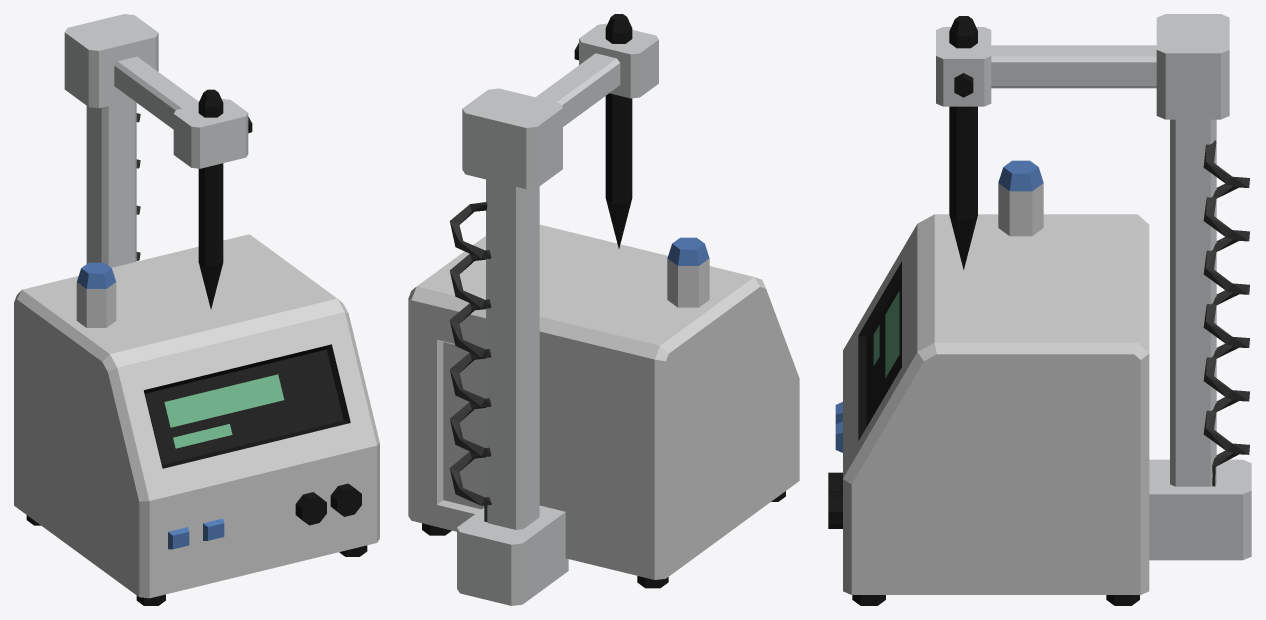
Rendered from benchtop-ph-meter-cf8b26.glb.
The picture shows the model from 3 angles, left to right: view 1: azimuth 30°, elevation 25°; view 2: azimuth 150°, elevation 25°; view 3: azimuth 270°, elevation 25°; orthographic projection. The views are drawn at different scales.
Visible parts, largest first — view 1: benchtop-ph-meter, swing-arm, electrode, storage-bottle; view 2: benchtop-ph-meter, swing-arm, electrode, storage-bottle; view 3: benchtop-ph-meter, swing-arm, electrode, storage-bottle.
Boxes of the visible parts, bbox=[...] form: benchtop-ph-meter: bbox=[14, 100, 379, 605]; swing-arm: bbox=[64, 14, 252, 168]; electrode: bbox=[198, 89, 223, 309]; storage-bottle: bbox=[76, 262, 116, 327]; benchtop-ph-meter: bbox=[408, 179, 799, 605]; swing-arm: bbox=[462, 23, 658, 189]; electrode: bbox=[605, 14, 632, 248]; storage-bottle: bbox=[667, 237, 709, 307]; benchtop-ph-meter: bbox=[828, 119, 1251, 605]; swing-arm: bbox=[936, 14, 1229, 119]; electrode: bbox=[949, 16, 977, 269]; storage-bottle: bbox=[998, 160, 1043, 236].
Bounding box in the file's own units: 0.22 × 0.396 × 0.29.
